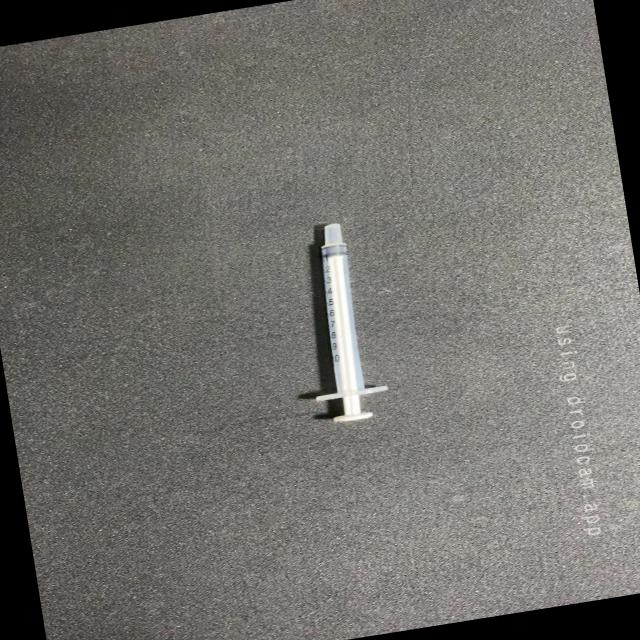syringe: (256, 207, 426, 442)
